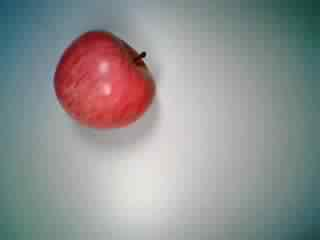apple: (51, 26, 156, 128)
